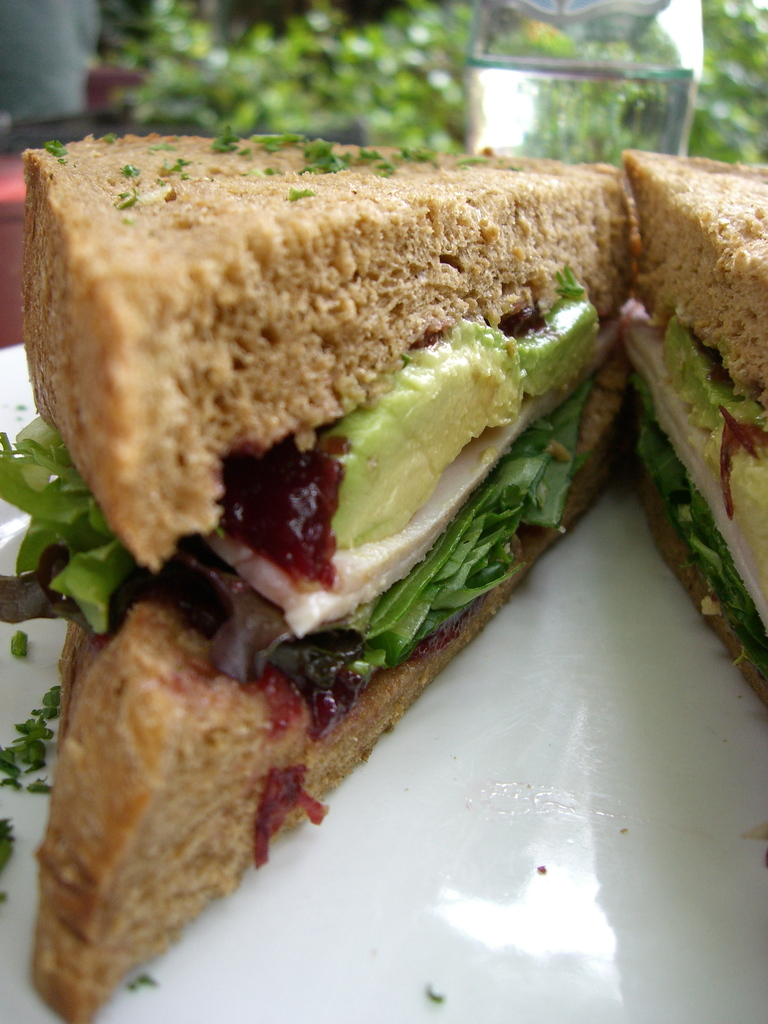sandwich: (24, 141, 634, 1023), (618, 147, 767, 703)
